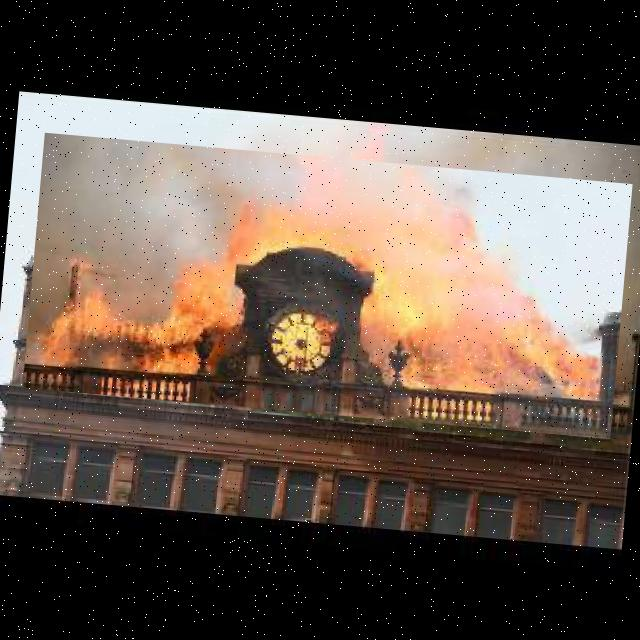fire: (22, 132, 632, 438)
